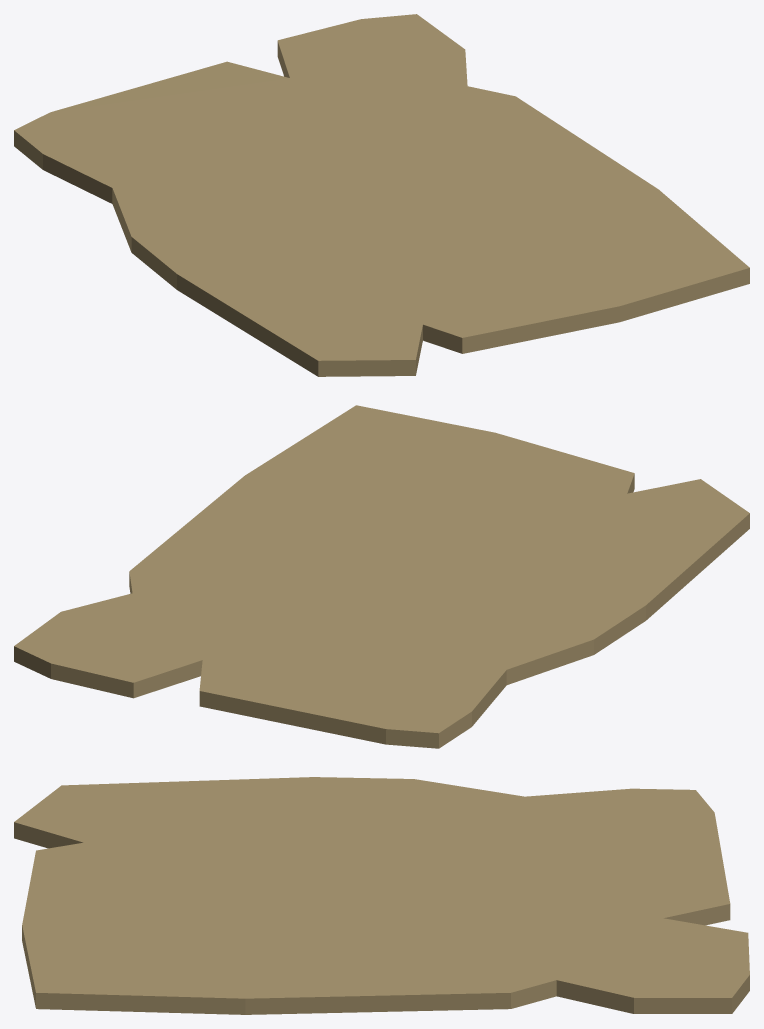
The model's file is rpgpp_ag_carpet_floor_01a.fbx.
The picture shows the model from 3 angles, top to bottom: view 1: azimuth 30°, elevation 25°; view 2: azimuth 150°, elevation 25°; view 3: azimuth 270°, elevation 25°; orthographic projection. The views are drawn at different scales.
Visible parts, largest first — view 1: rpgpp_ag_carpet_floor_01a; view 2: rpgpp_ag_carpet_floor_01a; view 3: rpgpp_ag_carpet_floor_01a.
Part boxes in pixels (x1,y1,x2,y2): rpgpp_ag_carpet_floor_01a: (14, 14, 749, 376); rpgpp_ag_carpet_floor_01a: (14, 405, 749, 748); rpgpp_ag_carpet_floor_01a: (14, 777, 749, 1014).
Bounding box in the file's own units: 1.46 × 0.0511 × 2.05.
